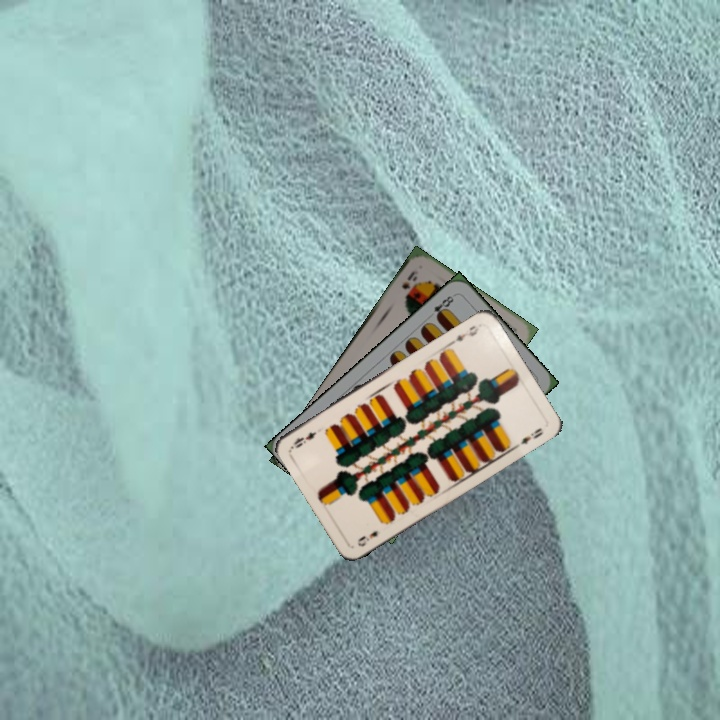E8: (424, 290, 458, 322)
E9: (447, 321, 482, 347), (353, 526, 380, 549)
SO: (398, 266, 420, 300)
